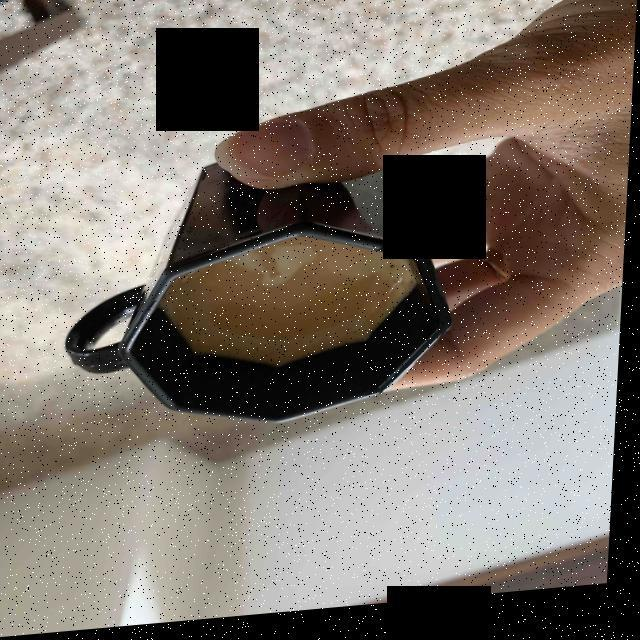espresso: (172, 243, 417, 372)
